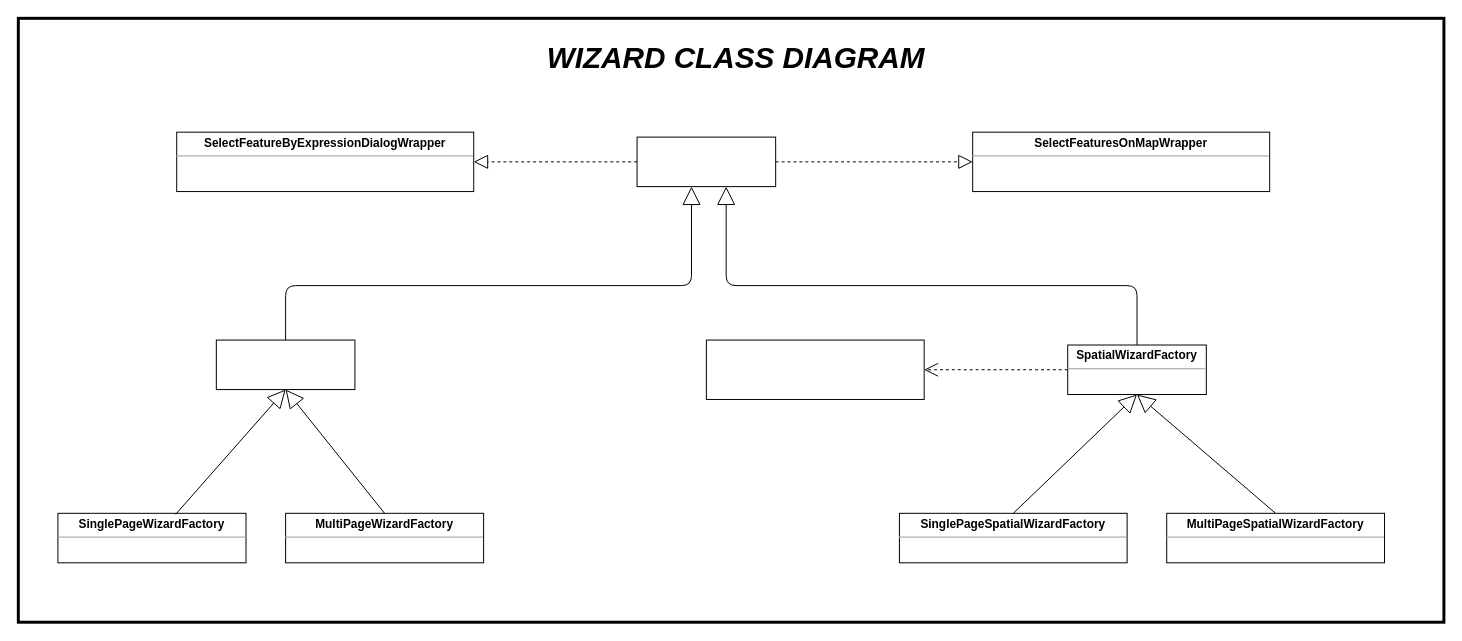
Some shapes in this 1462 by 641 pixel diagram are drawn without their labels. Each missing label, with the centre of its shape:
"AbsWizardFactory" goes at (x=706, y=161).
"MapInteractionExpansionWrapper" goes at (x=814, y=369).
"WizardFactory" goes at (x=285, y=364).
